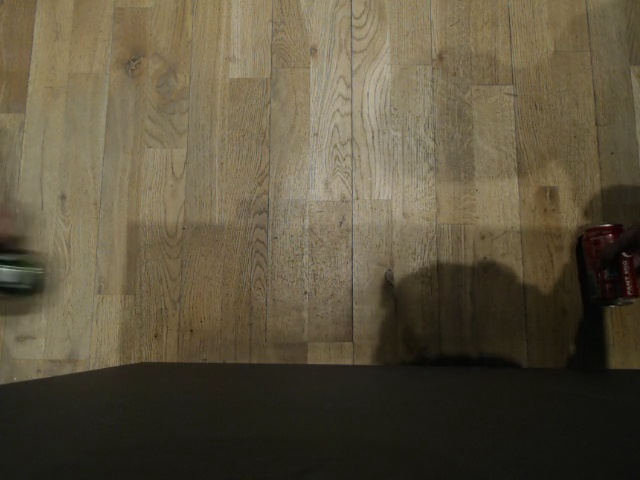beer: (0, 245, 46, 302)
cola: (578, 223, 638, 307)
